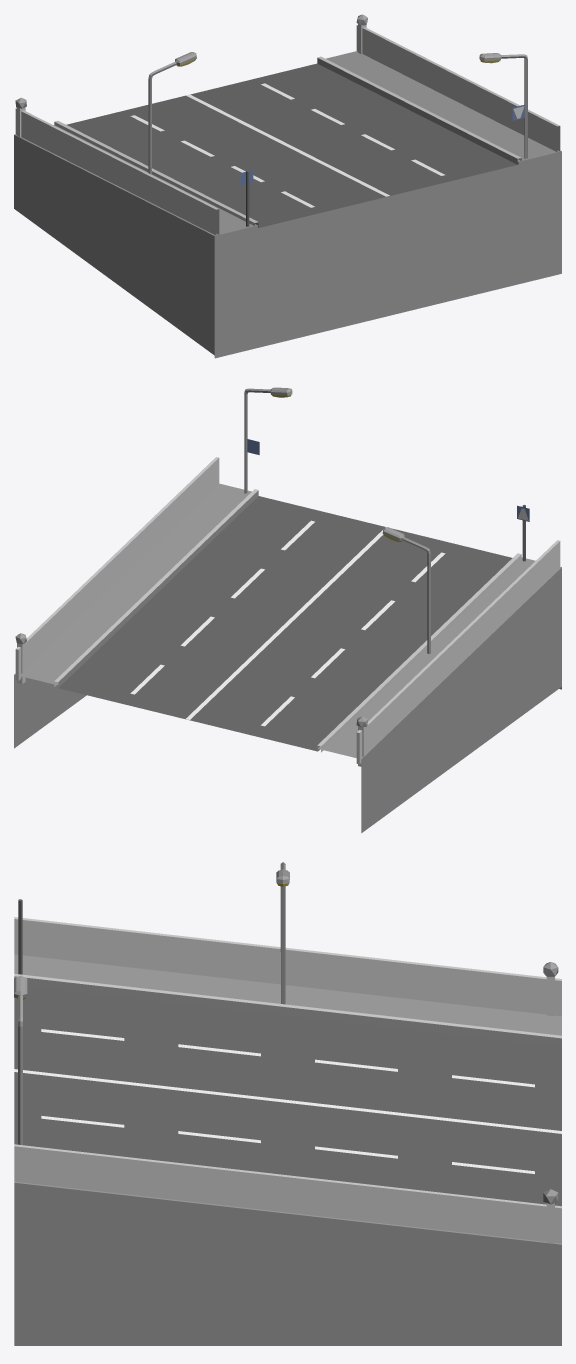
File: road_tile_bridge_2x2_003.fbx
3 renders of one model, top to bottom at view 1: azimuth 30°, elevation 25°; view 2: azimuth 150°, elevation 25°; view 3: azimuth 270°, elevation 25°, orthographic. The views are drawn at different scales.
Visible parts, largest first — view 1: road_tile_bridge_2x2_003; view 2: road_tile_bridge_2x2_003; view 3: road_tile_bridge_2x2_003.
Boxes of the visible parts, x1,y1,x2,y2 form: road_tile_bridge_2x2_003: (14, 14, 561, 358); road_tile_bridge_2x2_003: (14, 387, 561, 833); road_tile_bridge_2x2_003: (14, 862, 561, 1345).
Bounding box in the file's own units: 1618 × 1041 × 1601.
